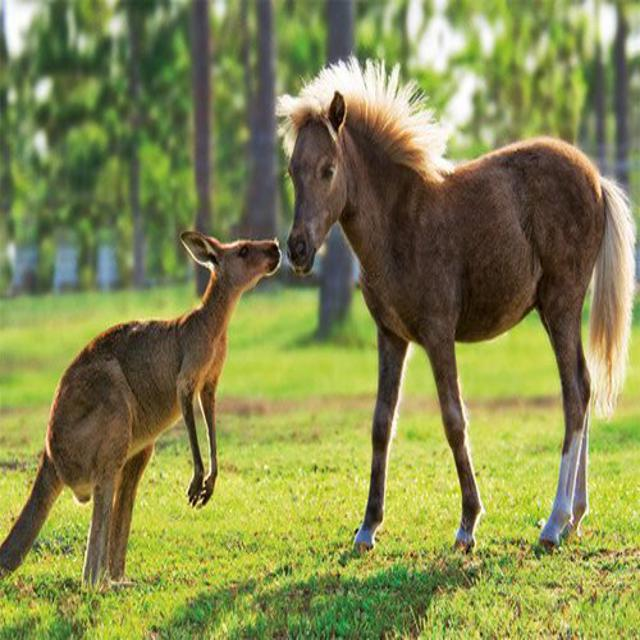kangaroo: (9, 219, 285, 583)
